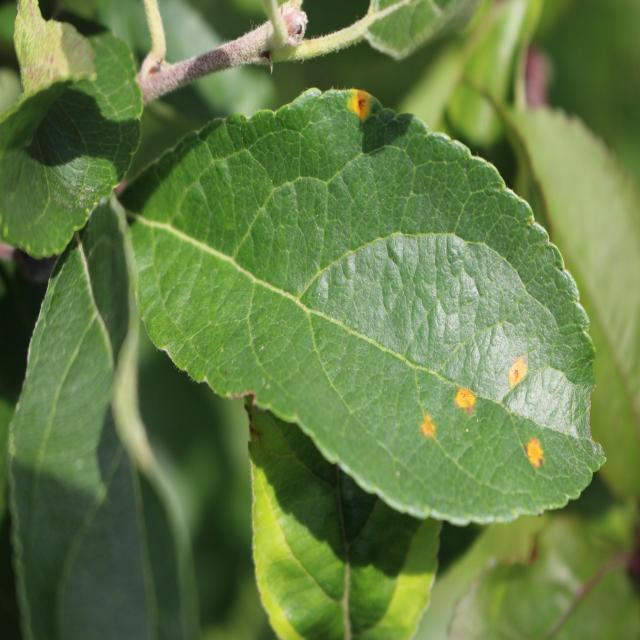Rust: (516, 421, 560, 489), (325, 84, 388, 128), (447, 360, 479, 446), (504, 343, 547, 399), (408, 393, 441, 457)
